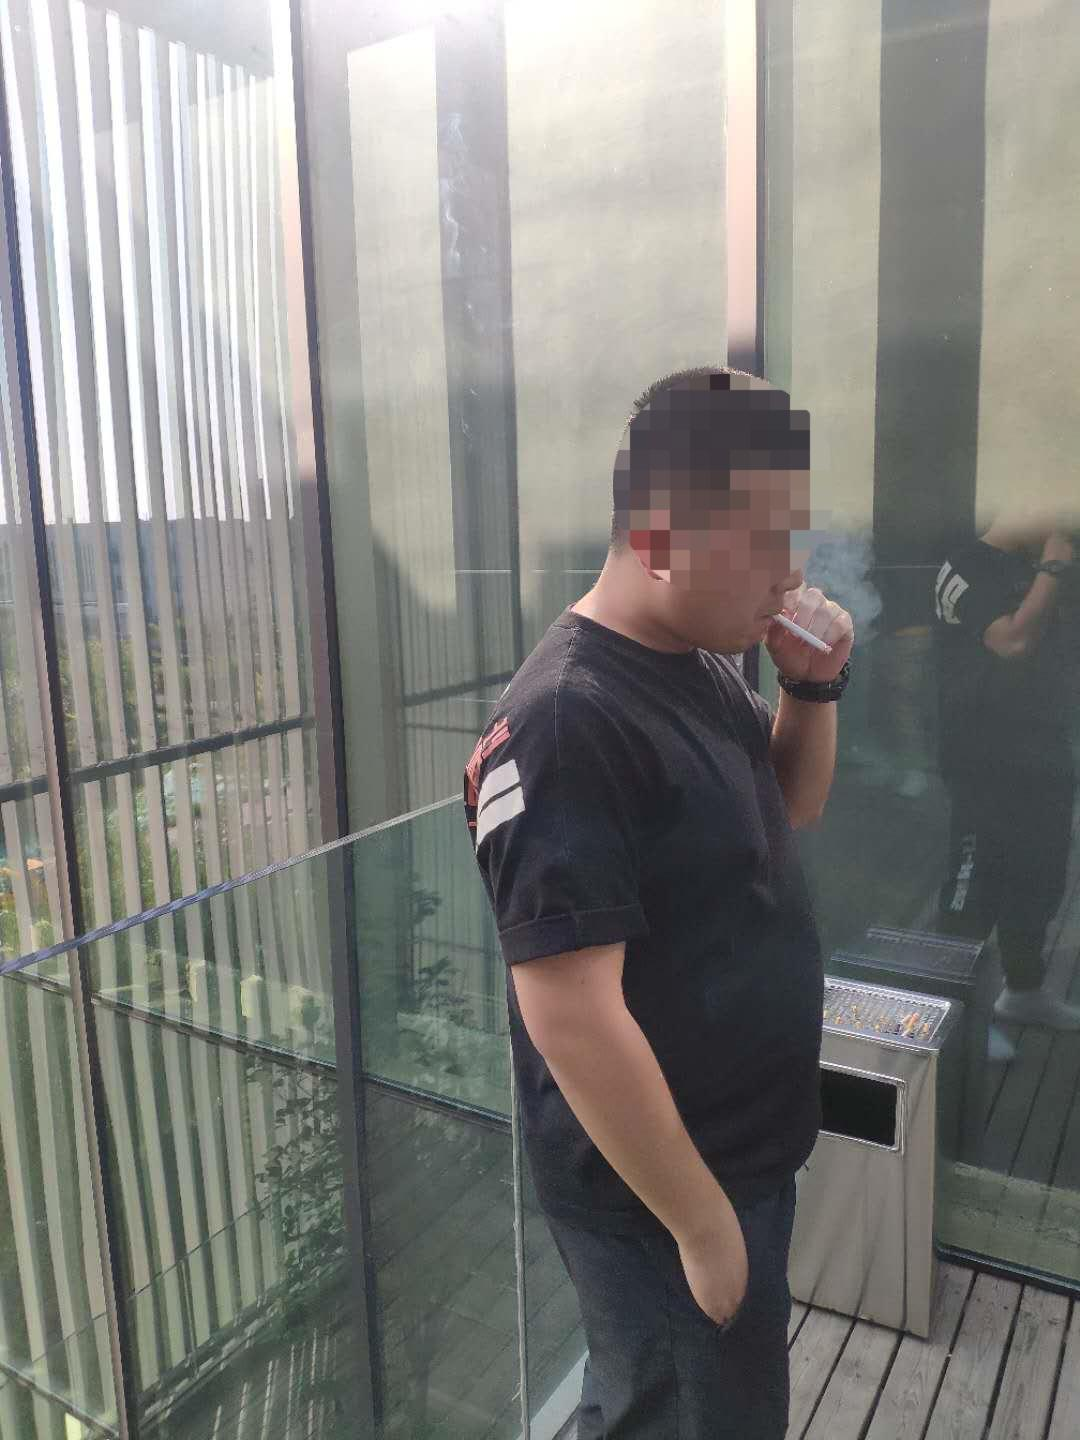smoke: (771, 615, 839, 661)
